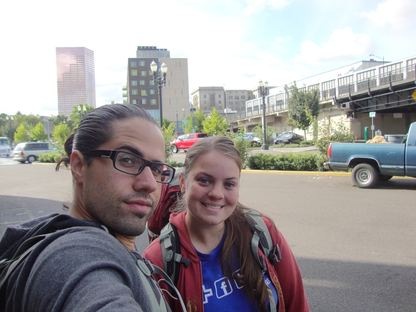car: (12, 141, 64, 164), (272, 131, 306, 144), (241, 132, 262, 146)
truck: (323, 132, 412, 187), (168, 131, 212, 154)
